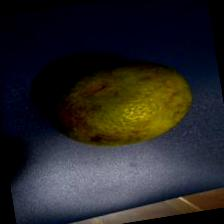Orange Rotten: (26, 43, 209, 169)
